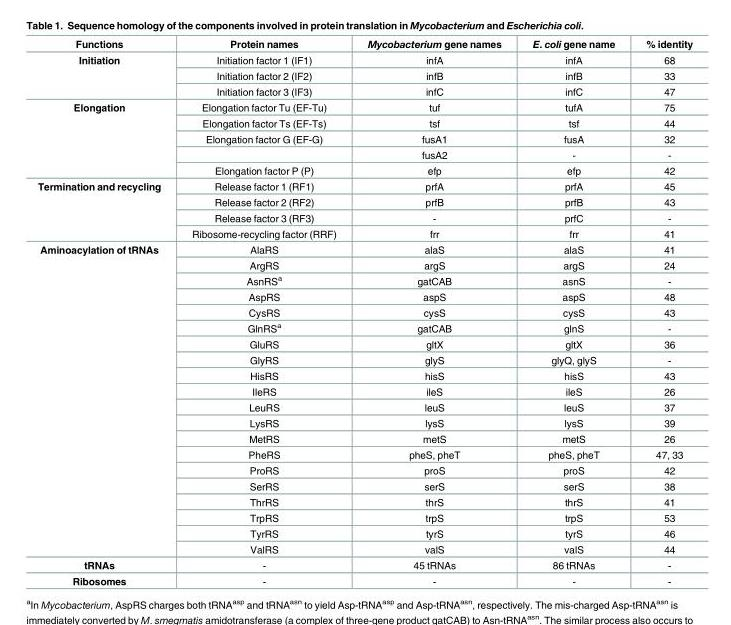table: (36, 37, 692, 586)
table column: (175, 37, 351, 586), (351, 37, 516, 586), (36, 37, 175, 586), (516, 37, 629, 586), (629, 37, 692, 586)
table column header: (36, 37, 692, 51)
table row: (36, 51, 692, 67), (36, 67, 692, 83), (36, 83, 692, 99), (36, 114, 692, 130), (36, 130, 692, 146), (36, 146, 692, 162), (36, 177, 692, 193), (36, 193, 692, 209), (36, 209, 692, 225), (36, 225, 692, 241), (36, 241, 692, 257), (36, 272, 692, 288), (36, 288, 692, 304), (36, 319, 692, 335), (36, 335, 692, 351), (36, 351, 692, 367), (36, 367, 692, 383), (36, 383, 692, 399), (36, 414, 692, 430), (36, 430, 692, 446), (36, 446, 692, 462), (36, 477, 692, 493), (36, 493, 692, 509), (36, 509, 692, 525), (36, 525, 692, 541), (36, 556, 692, 572), (36, 99, 692, 114), (36, 162, 692, 177), (36, 257, 692, 272), (36, 304, 692, 319), (36, 399, 692, 414), (36, 462, 692, 477), (36, 541, 692, 556), (36, 37, 692, 51), (36, 572, 692, 586)
table spanning cell: (36, 241, 175, 556), (36, 99, 175, 177), (36, 177, 175, 241), (36, 51, 175, 99)
